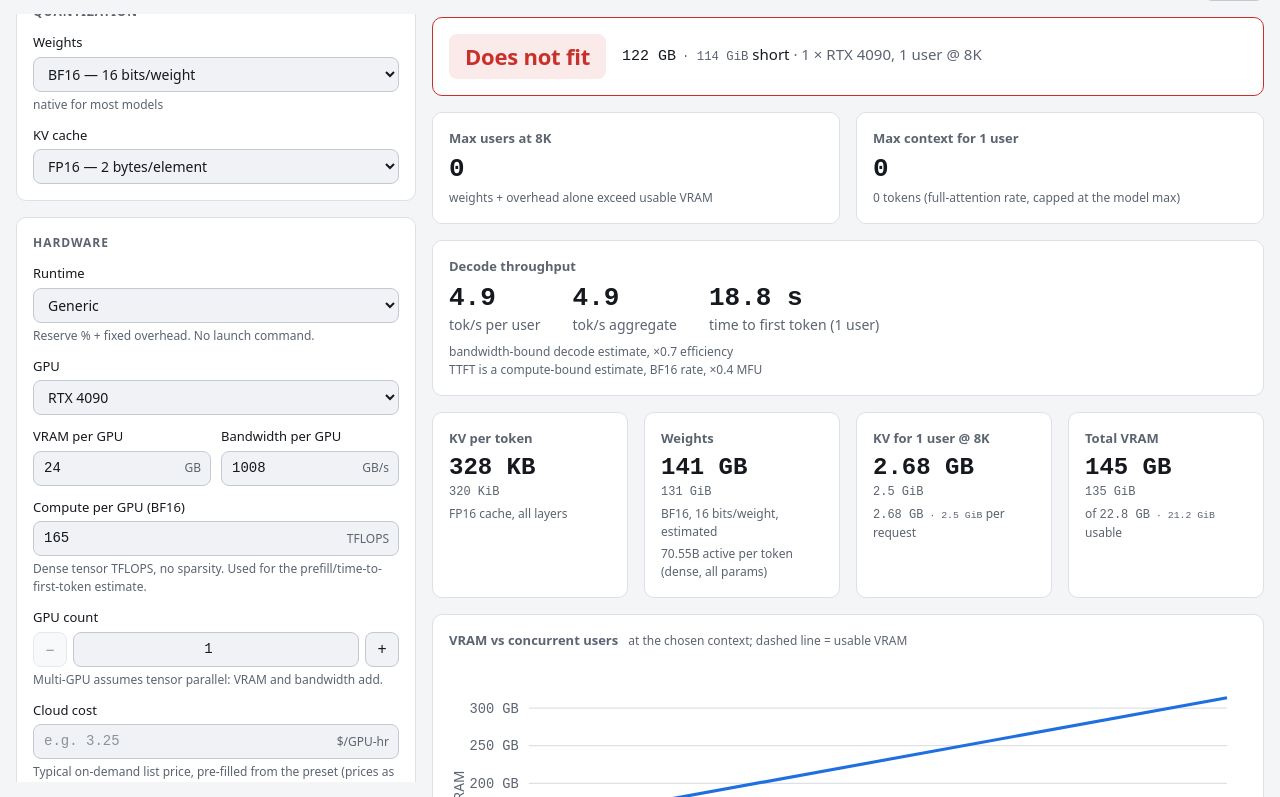
Test case: App › 70B BF16 does not fit on one 4090 and fits on H200s
This screenshot has width=1280, height=797.
(page scrolled)
expect the message with class "badge" reads "Does not fit": met, box [465,40,590,70]
Select "H200" in the dropdown labelled "GPU" at (216, 398), box [33,380,399,415]
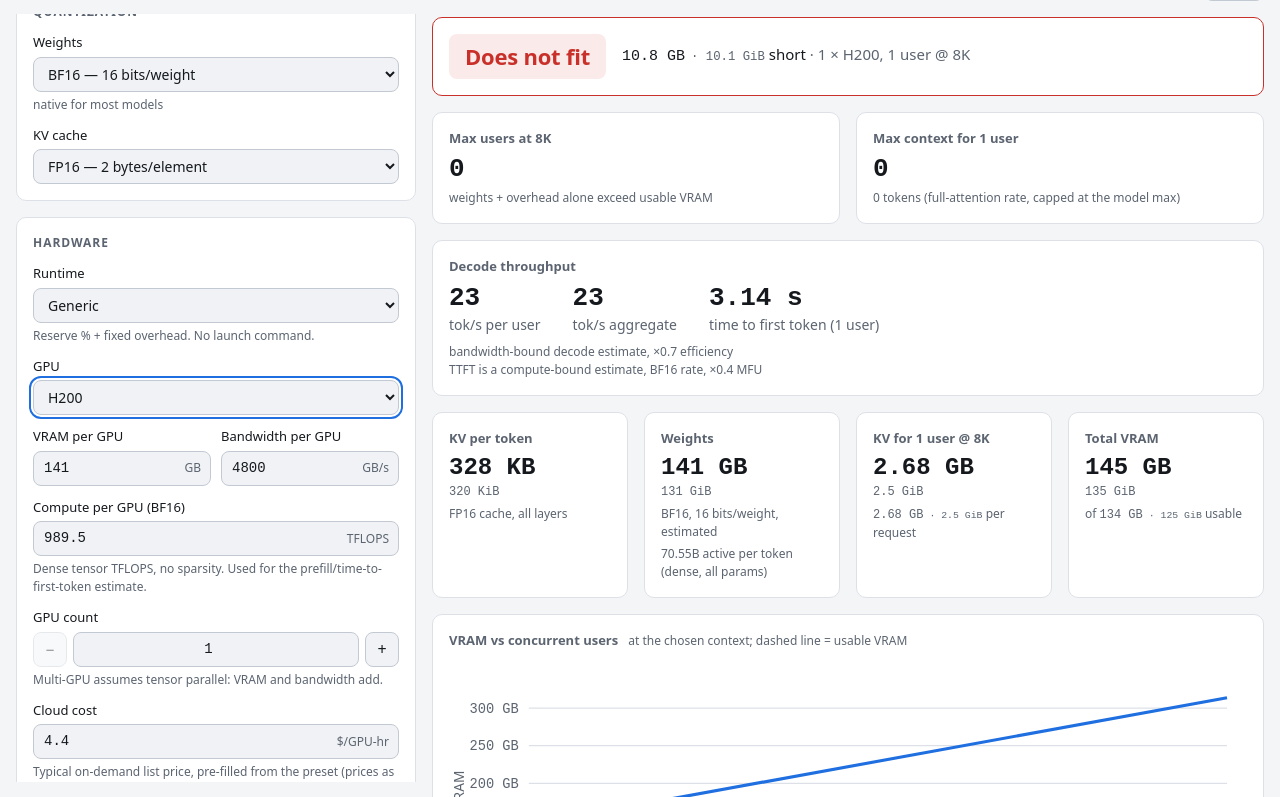
expect the message with class "badge" reads "Does not fit": met, box [465,40,590,70]
Click the button named "Increase gpu count" at (382, 649), box [365,632,399,666]
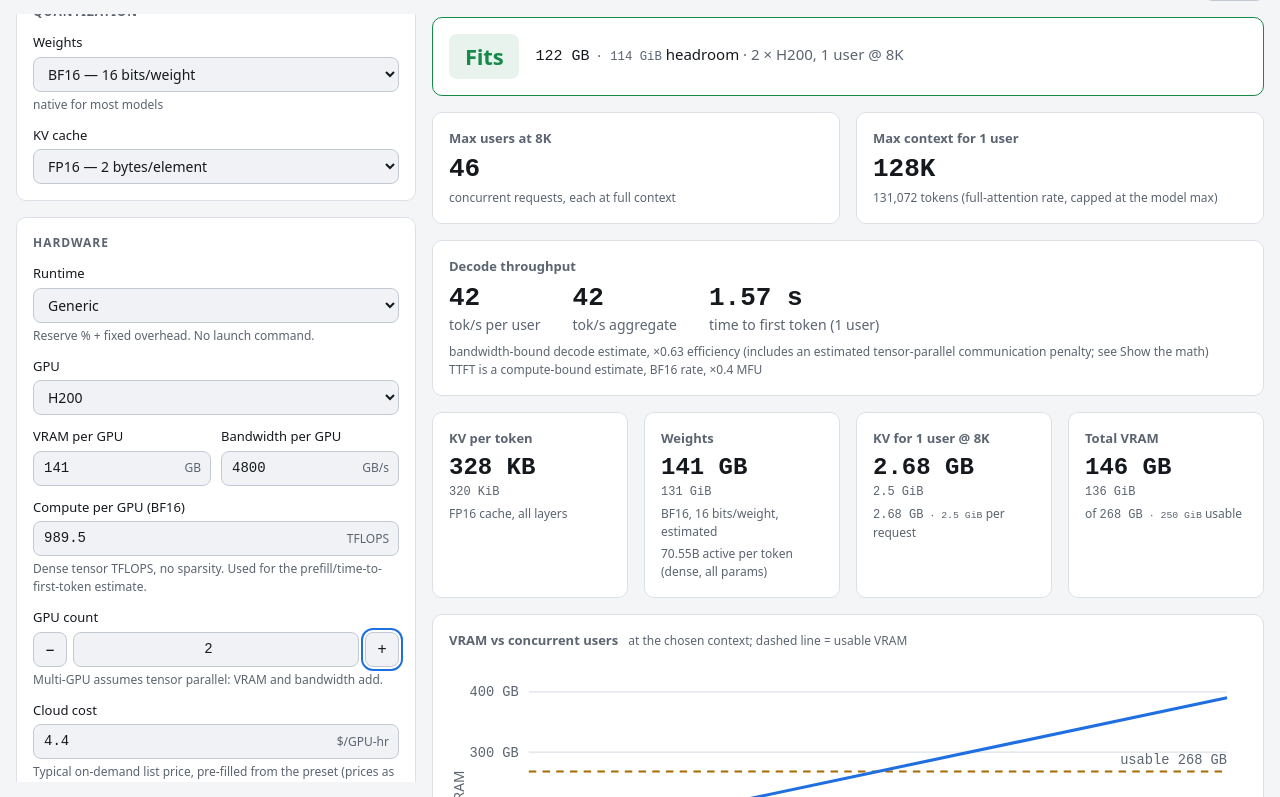
expect the message with class "badge" reads "Fits": met, box [465,40,503,70]
